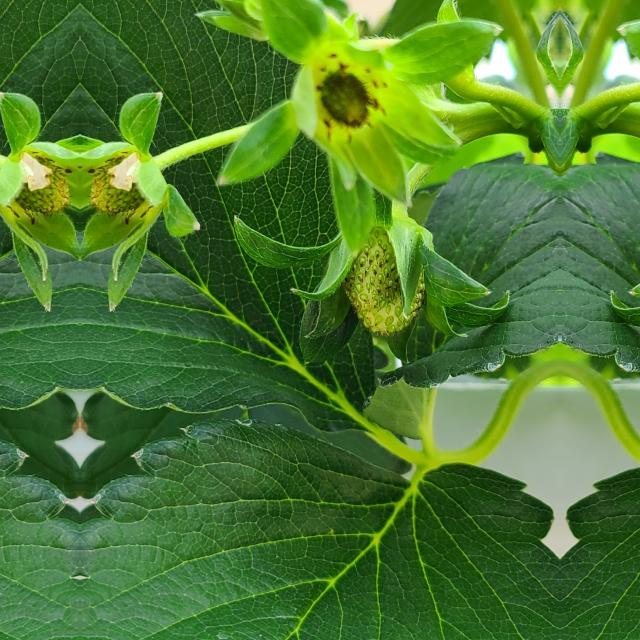Health_25: (344, 216, 424, 334)
